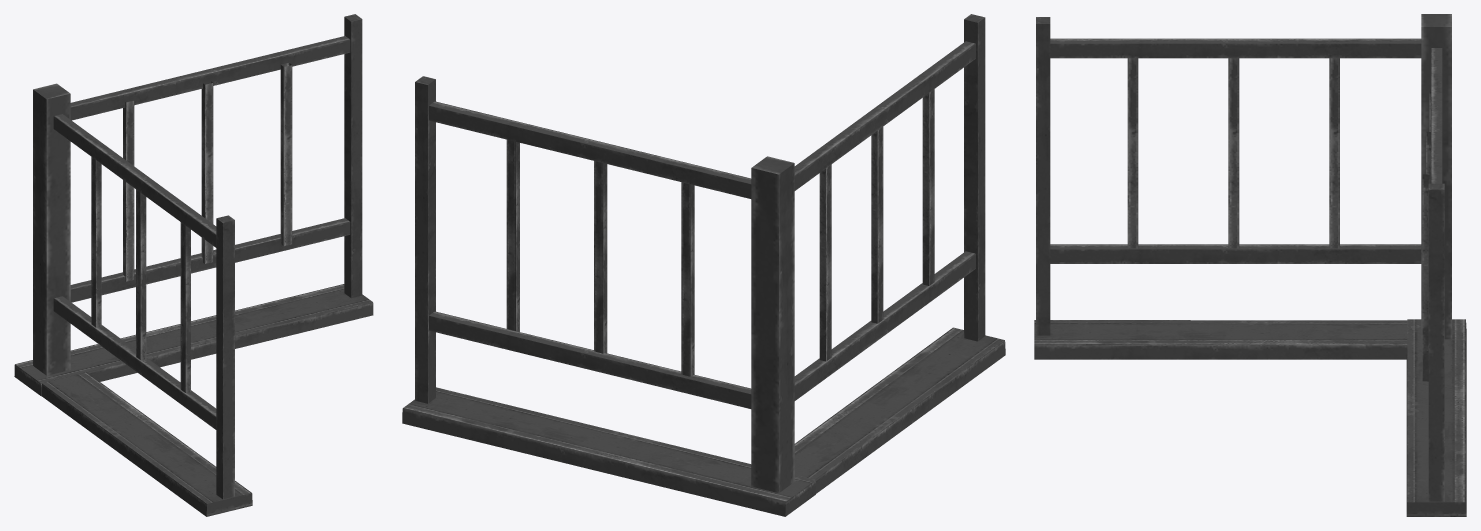
File: CP_Parapet_E_Angle_Out.fbx
3 views of the same model, side by side, from view 1: azimuth 30°, elevation 25°; view 2: azimuth 150°, elevation 25°; view 3: azimuth 270°, elevation 25° (orthographic). The views are drawn at different scales.
Visible parts, largest first — view 1: CP_Parapet_E_Angle_Out; view 2: CP_Parapet_E_Angle_Out; view 3: CP_Parapet_E_Angle_Out.
Boxes of the visible parts, <box> form: CP_Parapet_E_Angle_Out: <box>14,14,373,516</box>; CP_Parapet_E_Angle_Out: <box>402,14,1005,516</box>; CP_Parapet_E_Angle_Out: <box>1034,14,1466,516</box>.
Size of the model in its own units: 108 by 89.53 by 107.
